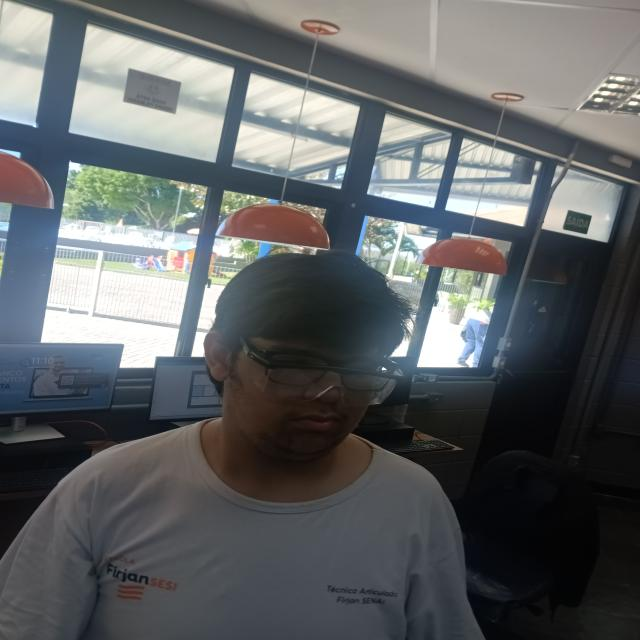oculos-epi: (237, 337, 402, 406)
